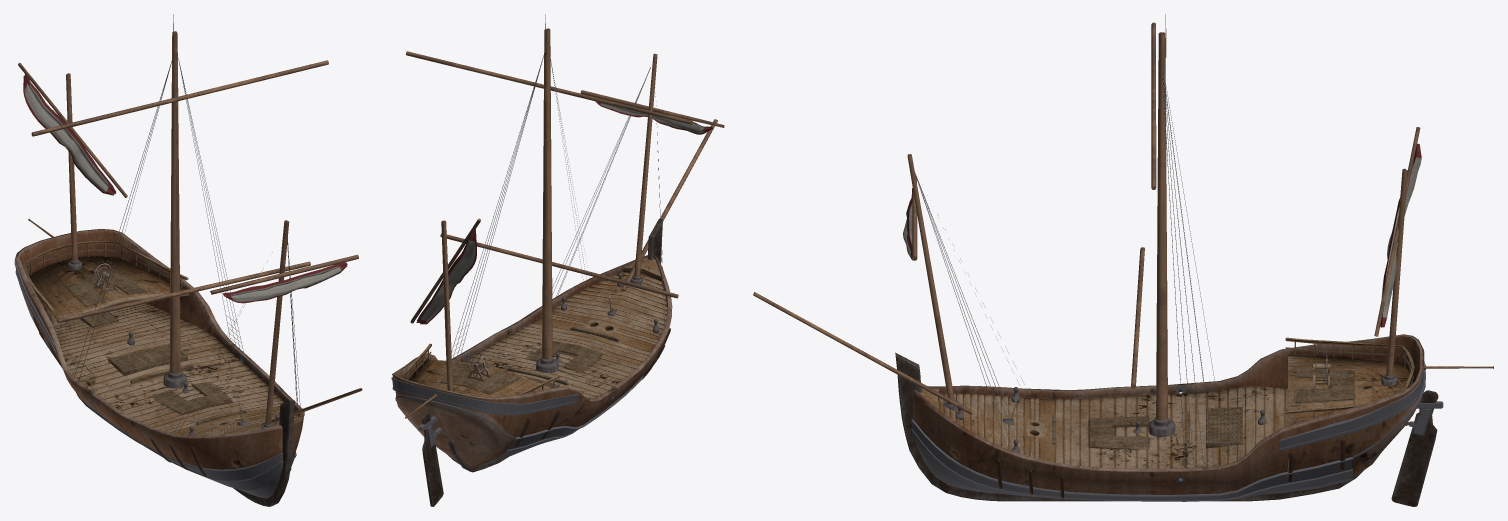
File: caravel-selected.glb
3 views of the same model, side by side, from view 1: azimuth 30°, elevation 25°; view 2: azimuth 150°, elevation 25°; view 3: azimuth 270°, elevation 25° (orthographic). The views are drawn at different scales.
Parts seen in each view (by area): view 1: PoopDeck_lo, Hull_lo_Hull_0, UpperDeck_lo, MidMast, Sail001, ClimbingRigging, Sail002, MidBoom_MastsRigging_0, Fence001_DeckStuff_0, Keel, MidBoom001_MastsRigging_0, UpperHatch001_lo_Poopdeck_0 (+9 smaller); view 2: PoopDeck_lo, Hull_lo_Hull_0, MidMast, HullBackDetailPlate, UpperDeck_lo, ClimbingRigging, Sail001, MidBoom_MastsRigging_0, Rudder_Hull_0, Foremast, UpperHatch_lo_Poopdeck_0, MidBoom001_MastsRigging_0 (+9 smaller); view 3: Hull_lo_Hull_0, PoopDeck_lo, UpperDeck_lo, MidMast, Keel, Rudder_Hull_0, HullBackDetailPlate, ClimbingRigging, UpperHatch001_lo_Poopdeck_0, Foremast, UpperHatch_lo_Poopdeck_0, Fence001_DeckStuff_0 (+6 smaller).
Part boxes in pixels (x1,y1,x2,y2): PoopDeck_lo: (54,300,298,435); Hull_lo_Hull_0: (14,229,304,498); UpperDeck_lo: (29,256,189,327); MidMast: (169,31,180,373); Sail001: (23,74,116,195); ClimbingRigging: (73,58,243,383); Sail002: (222,262,347,303); MidBoom_MastsRigging_0: (31,60,328,136); Fence001_DeckStuff_0: (22,241,188,321); Keel: (233,400,294,506); MidBoom001_MastsRigging_0: (56,261,310,323); UpperHatch001_lo_Poopdeck_0: (152,382,232,414); PoopDeck_lo: (464,257,667,399); Hull_lo_Hull_0: (392,255,672,467); MidMast: (542,28,552,359); HullBackDetailPlate: (391,377,578,415); UpperDeck_lo: (409,359,549,397); ClimbingRigging: (451,55,605,397); Sail001: (416,229,476,324); MidBoom_MastsRigging_0: (406,51,693,124); Rudder_Hull_0: (419,411,443,506); Foremast: (634,53,657,277); UpperHatch_lo_Poopdeck_0: (440,363,518,394); MidBoom001_MastsRigging_0: (440,233,678,298); Hull_lo_Hull_0: (911,334,1423,501); PoopDeck_lo: (919,387,1287,468); UpperDeck_lo: (1287,354,1409,425); MidMast: (1156,32,1167,420); Keel: (895,352,1363,501); Rudder_Hull_0: (1391,390,1443,506); HullBackDetailPlate: (1280,349,1424,451); ClimbingRigging: (1162,64,1214,470); UpperHatch001_lo_Poopdeck_0: (1090,416,1148,449); Foremast: (907,154,954,400); UpperHatch_lo_Poopdeck_0: (1295,368,1353,402); Fence001_DeckStuff_0: (1285,337,1414,423).
Size of the model in its own units: 138 by 193 by 265.
Materials: 4 (4 with a texture image).
